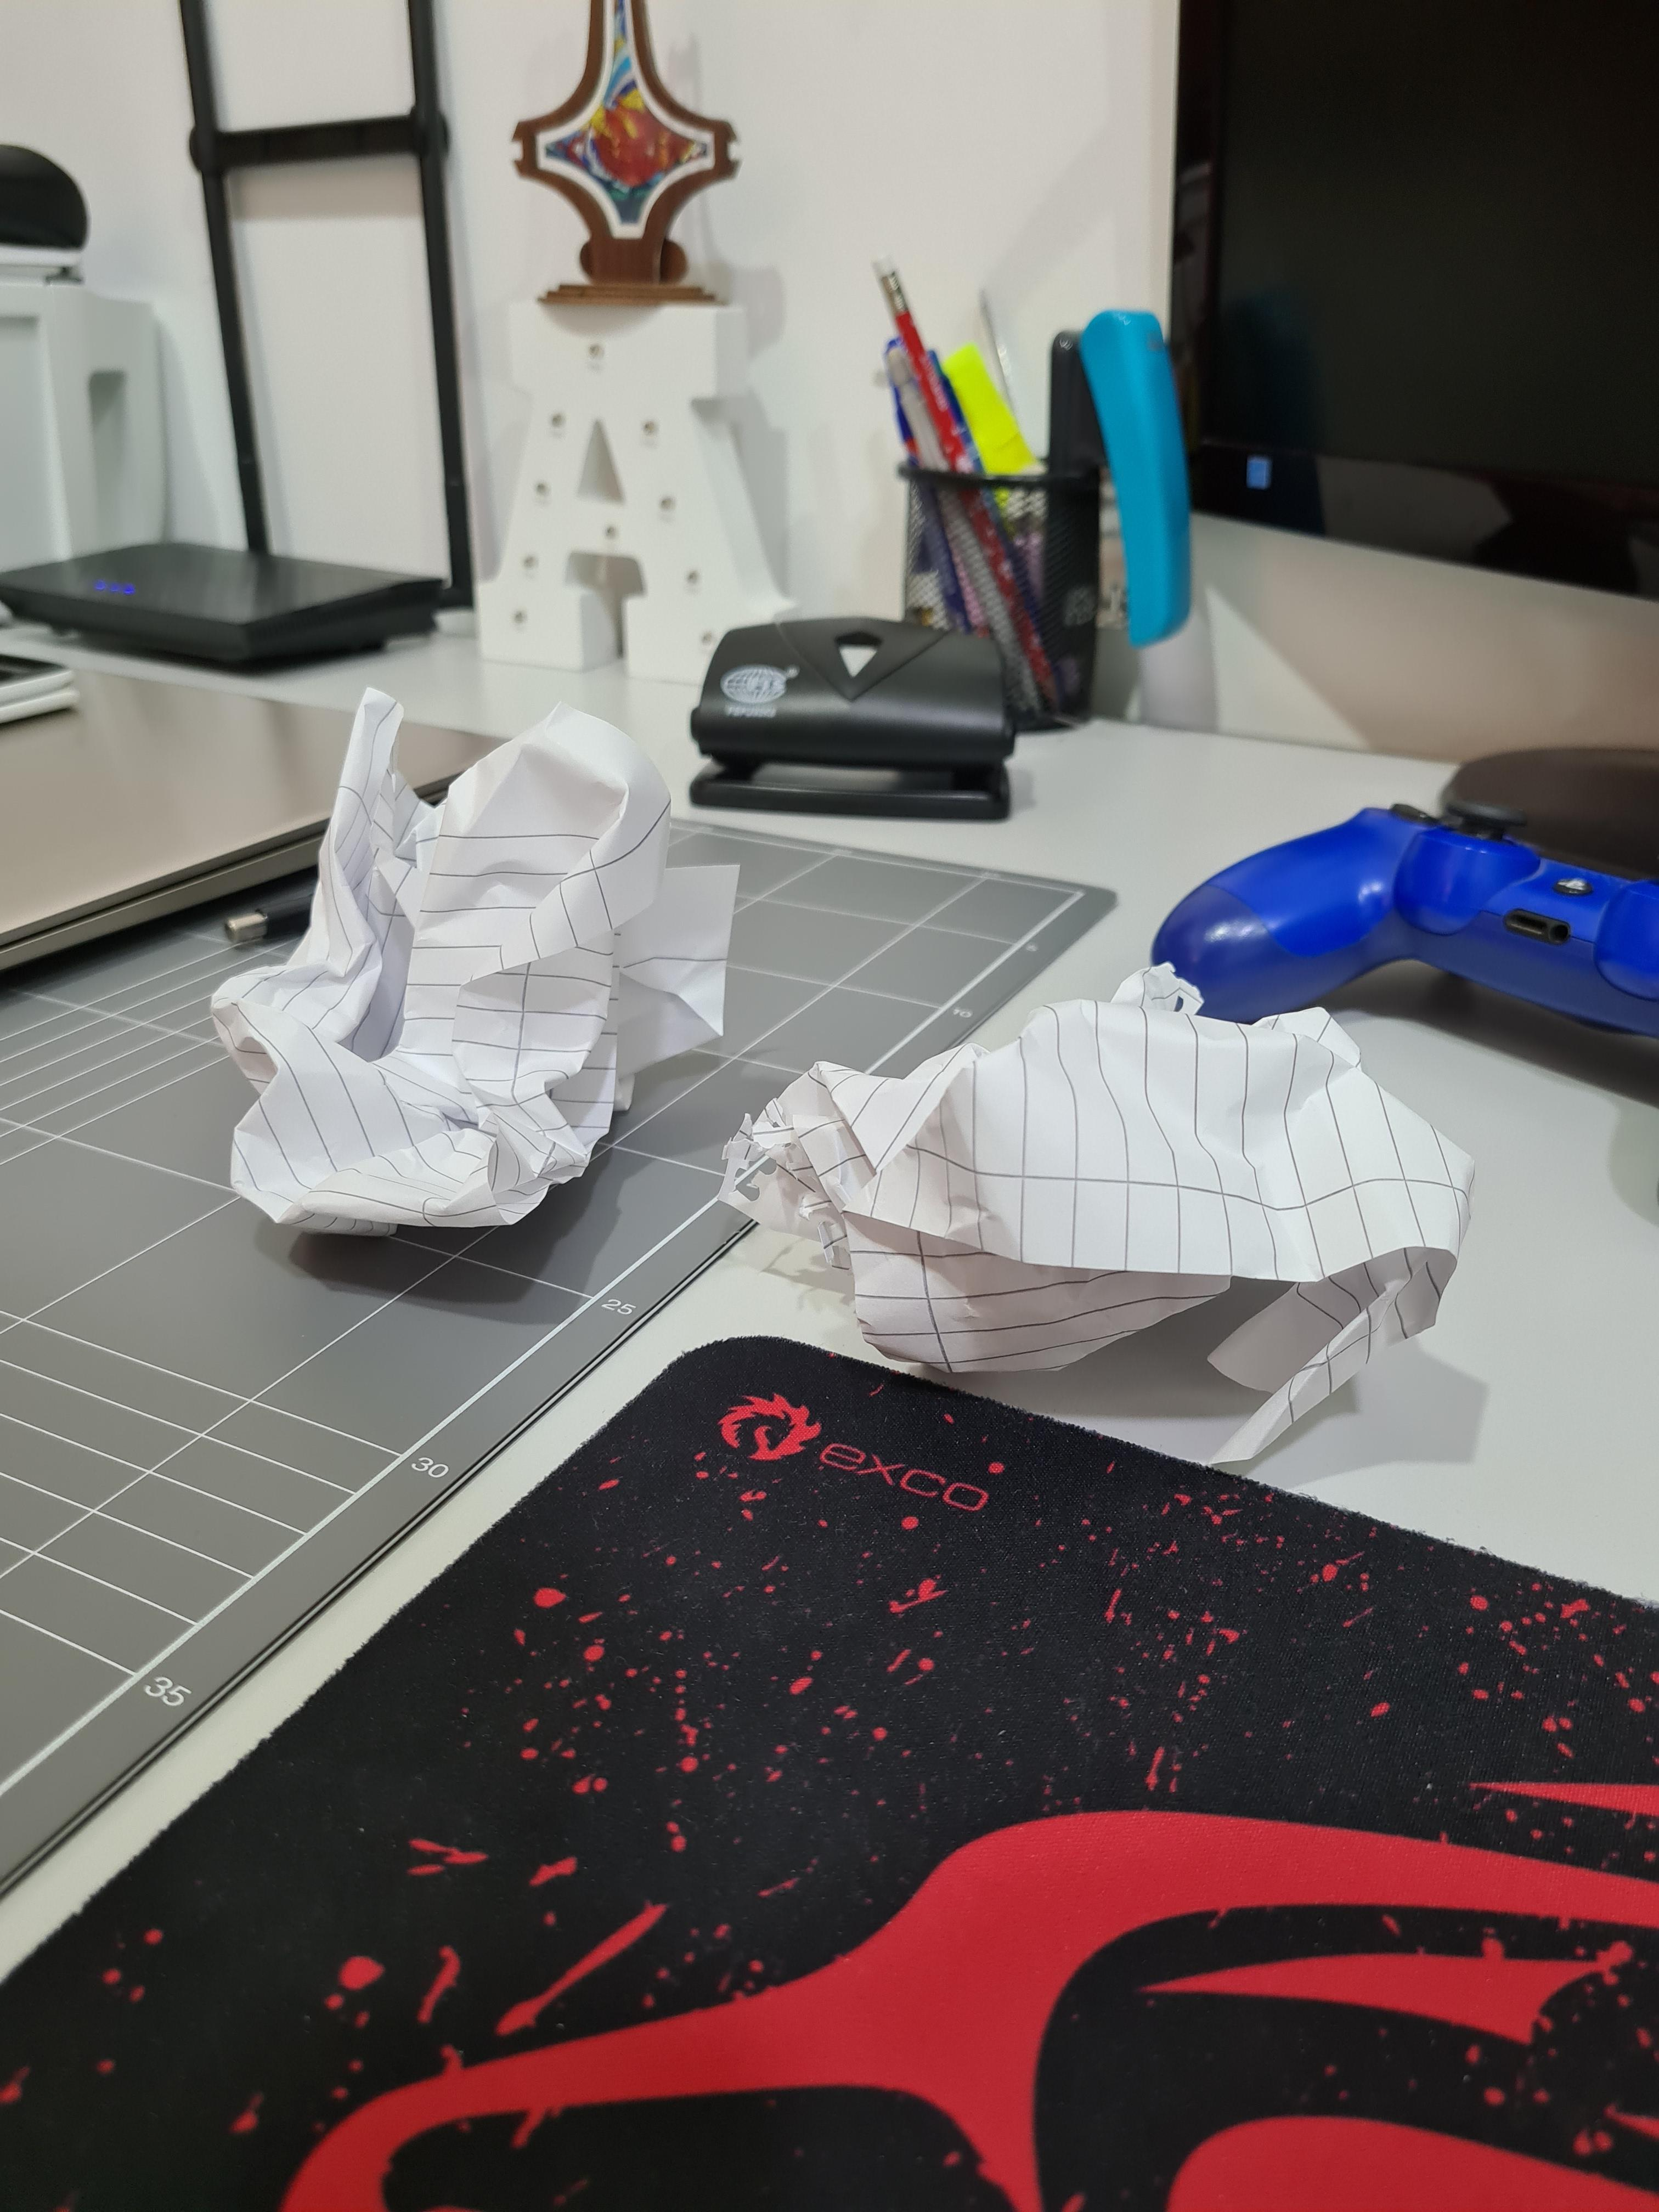Paper: (721, 1011, 1449, 1395), (215, 687, 688, 1263)
